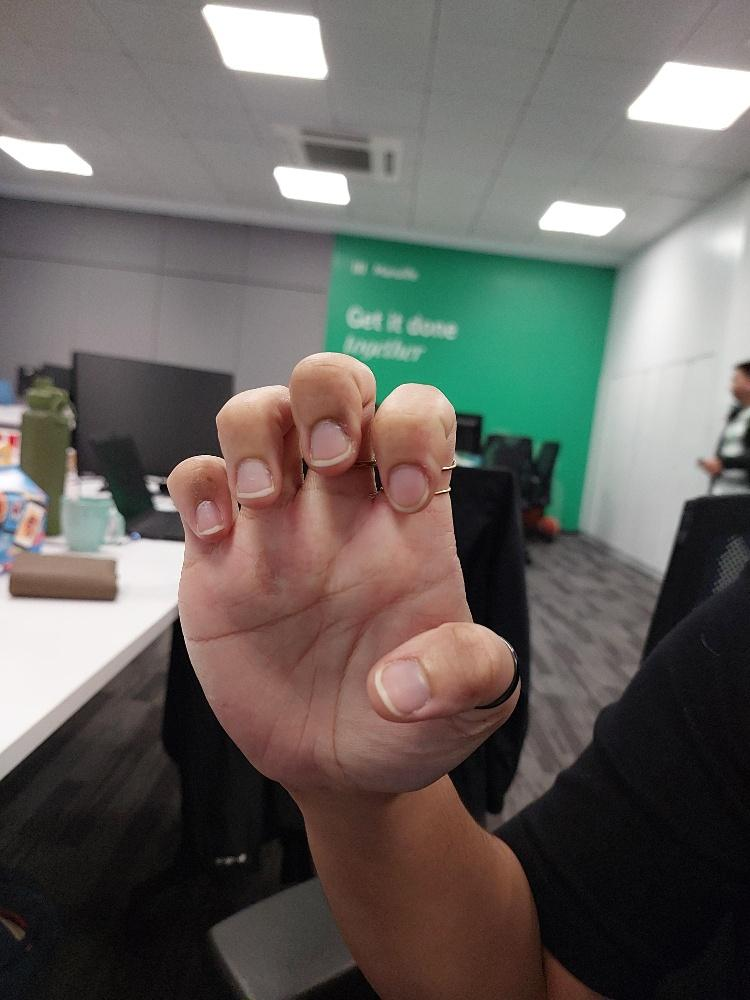e: (164, 349, 524, 803)
